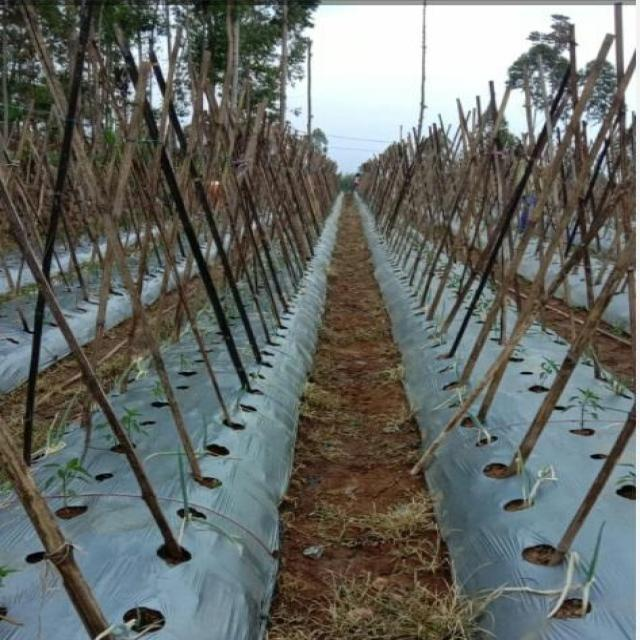row: (236, 188, 504, 640), (0, 205, 302, 485), (378, 195, 640, 401)
